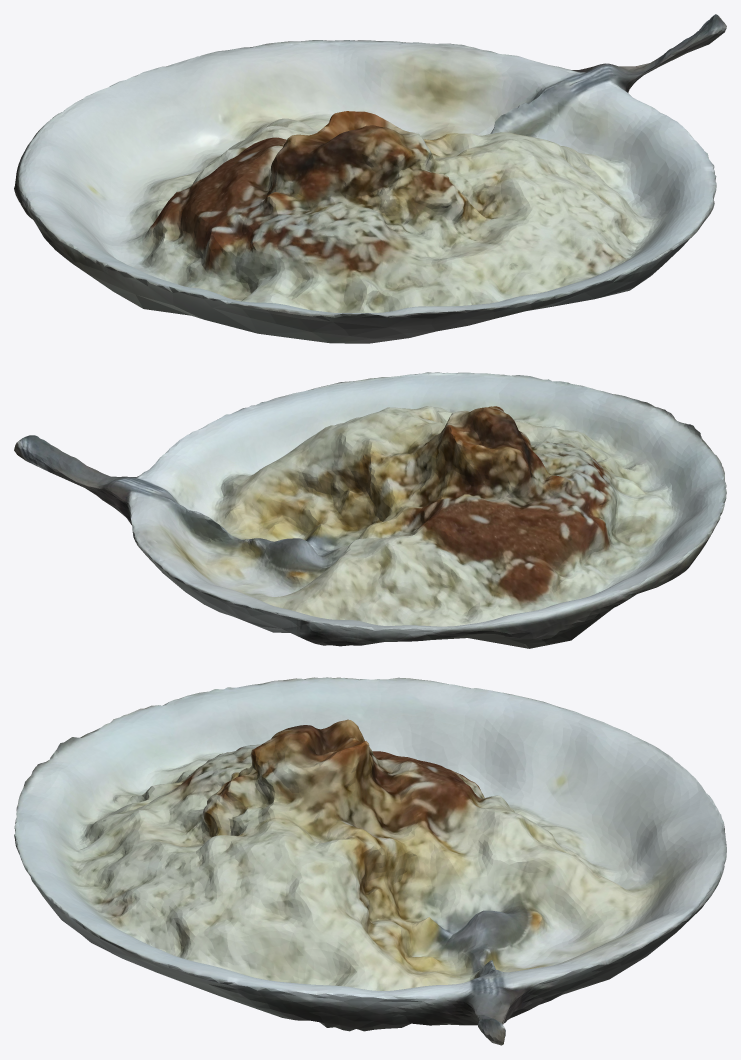
3 views of the same model, one above another, from view 1: azimuth 30°, elevation 25°; view 2: azimuth 150°, elevation 25°; view 3: azimuth 270°, elevation 25° (orthographic). The views are drawn at different scales.
Size of the model in its own units: 0.8016 by 0.1657 by 0.6701.
1 material, 1 textured.
